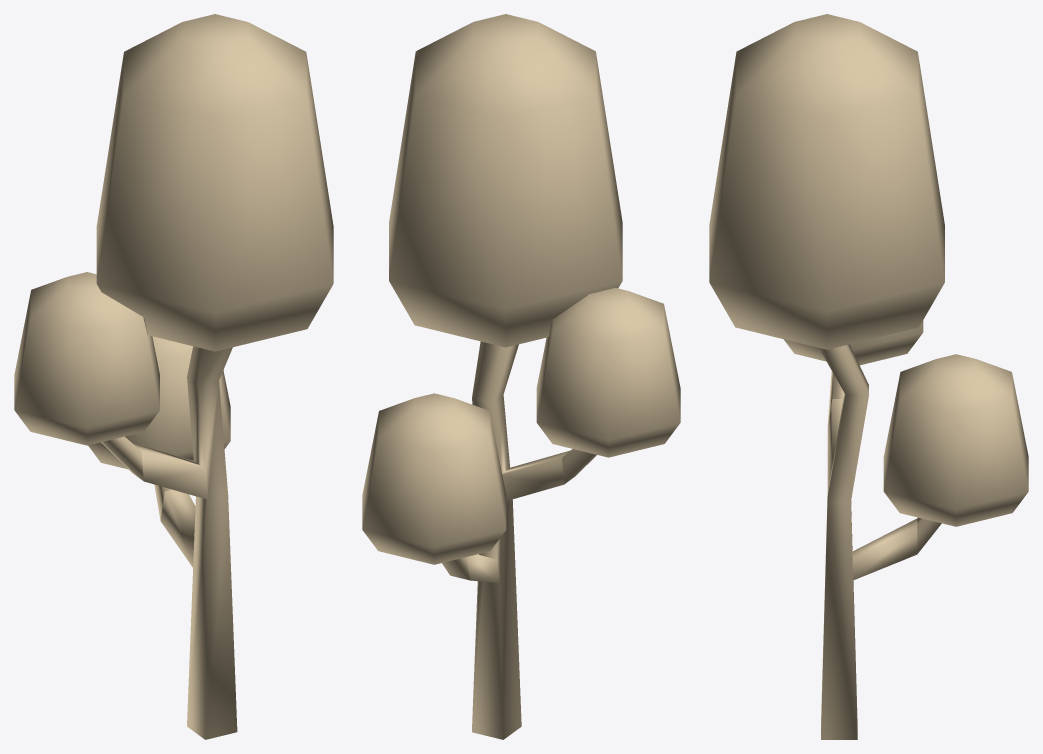
The model's file is tree_062_onemtl.fbx.
The picture shows the model from 3 angles, left to right: view 1: azimuth 30°, elevation 25°; view 2: azimuth 150°, elevation 25°; view 3: azimuth 270°, elevation 25°; orthographic projection.
Parts seen in each view (by area): view 1: Mesh1 Group1 Model; view 2: Mesh1 Group1 Model; view 3: Mesh1 Group1 Model.
Part boxes in pixels (x1=…): Mesh1 Group1 Model: x1=14, y1=14, x2=333, y2=739; Mesh1 Group1 Model: x1=362, y1=14, x2=680, y2=739; Mesh1 Group1 Model: x1=709, y1=14, x2=1028, y2=739.
Size of the model in its own units: 272 by 596 by 246.
